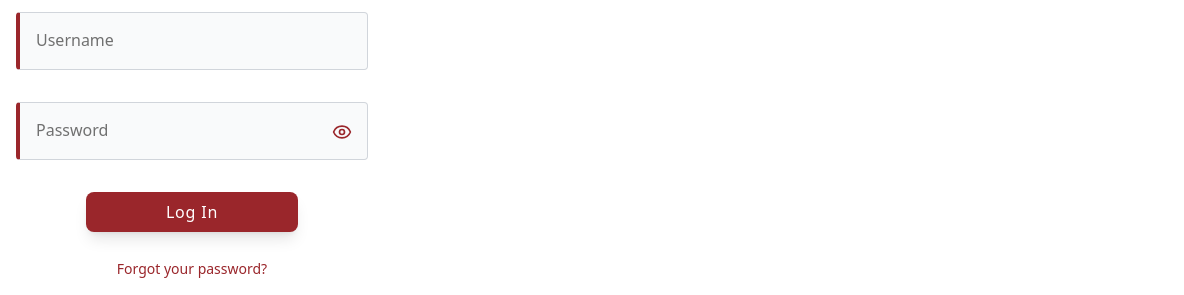
LoginForm › reports an unexpected failure through the notification system
Step 1. Type "jdoe" into the field labelled "Username" → (192, 41), box x1=16 y1=12 x2=368 y2=70
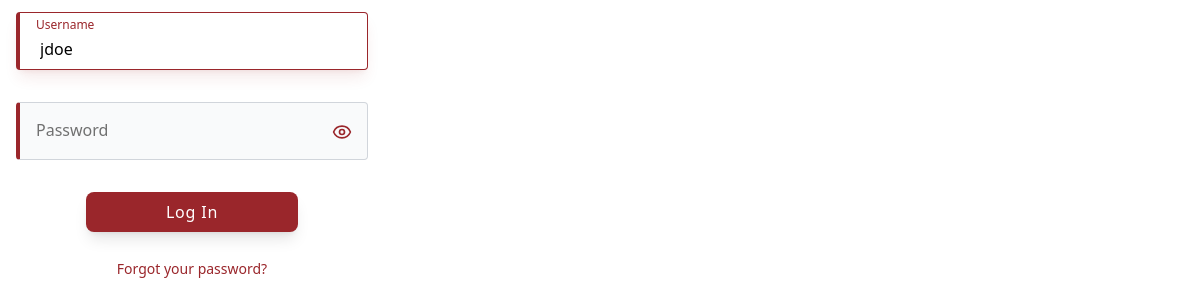
Step 2. Type "secret-password" into the password field labelled "Password" → (192, 131), box x1=16 y1=102 x2=368 y2=160
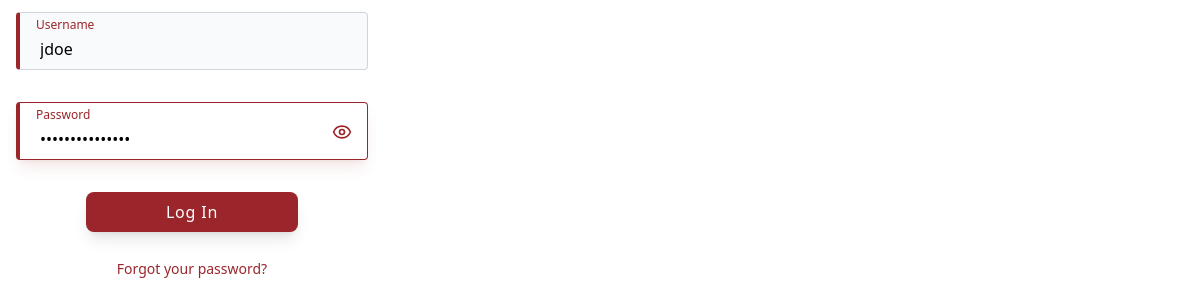
Step 3. Click the button "Log In" → (192, 212), box x1=86 y1=192 x2=298 y2=232
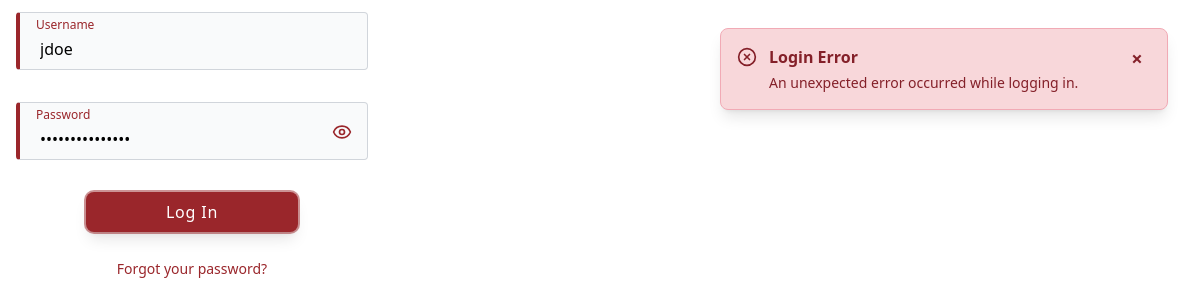
Check: the text "An unexpected error occurred while logging in." is shown, box x1=769 y1=73 x2=1115 y2=93
